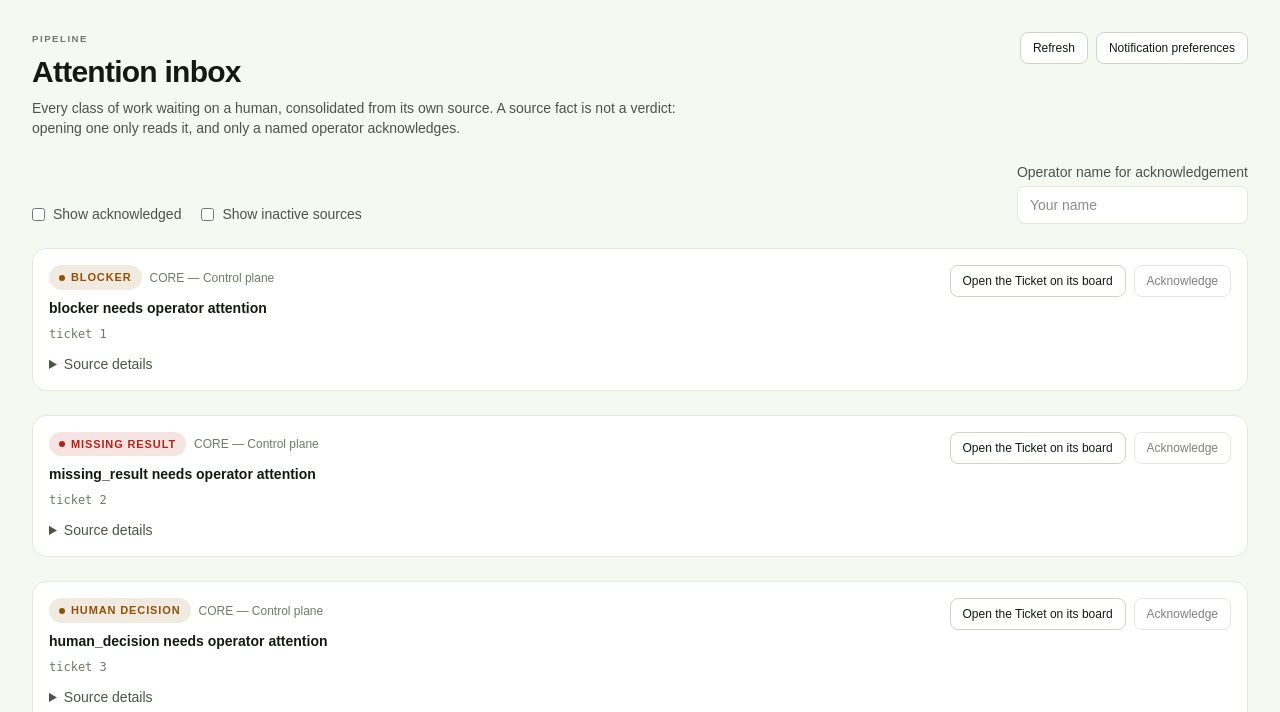
attention-inbox › opens notification preferences without acknowledging or requesting permission
The width and height of the screenshot is (1280, 712).
Step 1. Click the button with test id "attention-notifications" → [1172, 48], box left=1096, top=32, right=1248, bottom=64
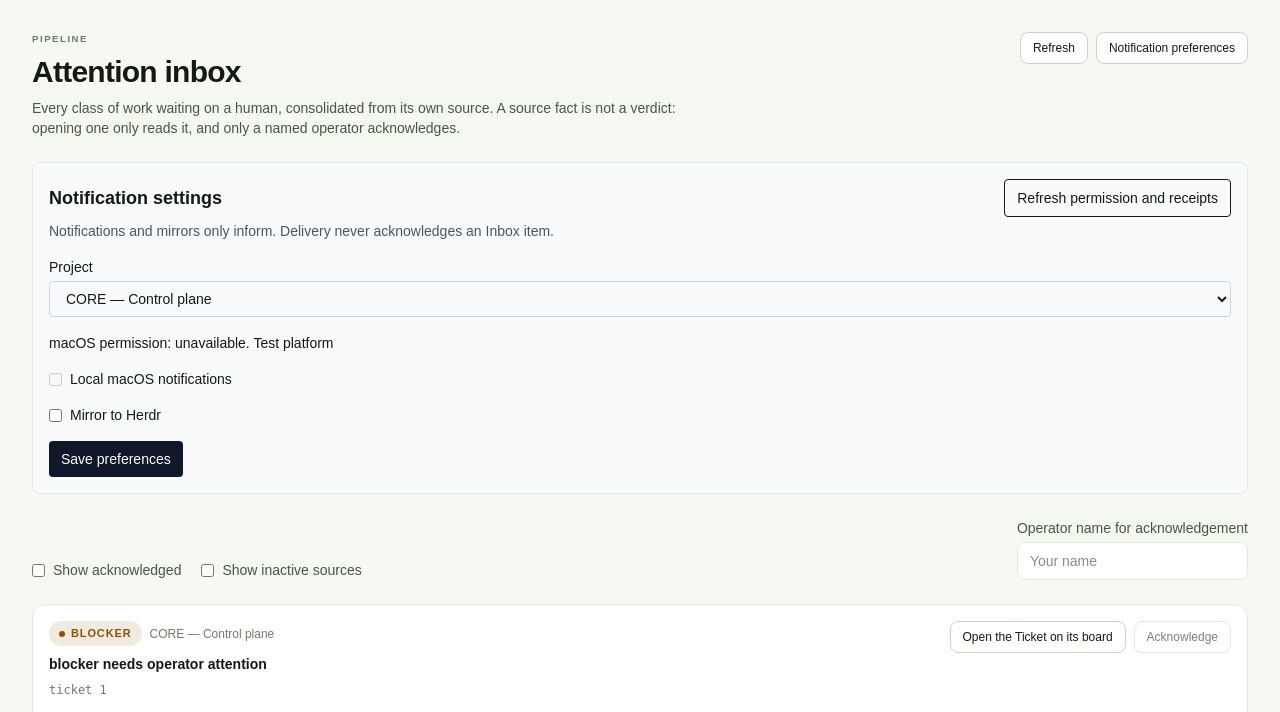
Check: the element that starts with "Notification settings" is shown, box left=32, top=162, right=1248, bottom=494
